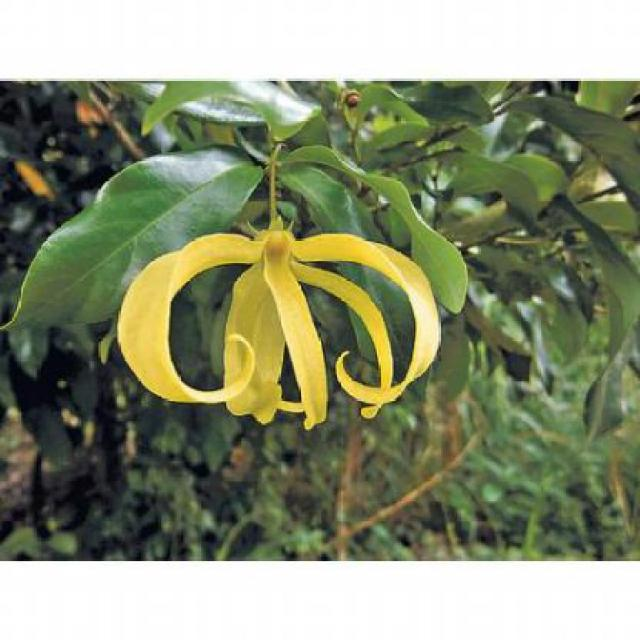flower: (108, 216, 460, 433)
